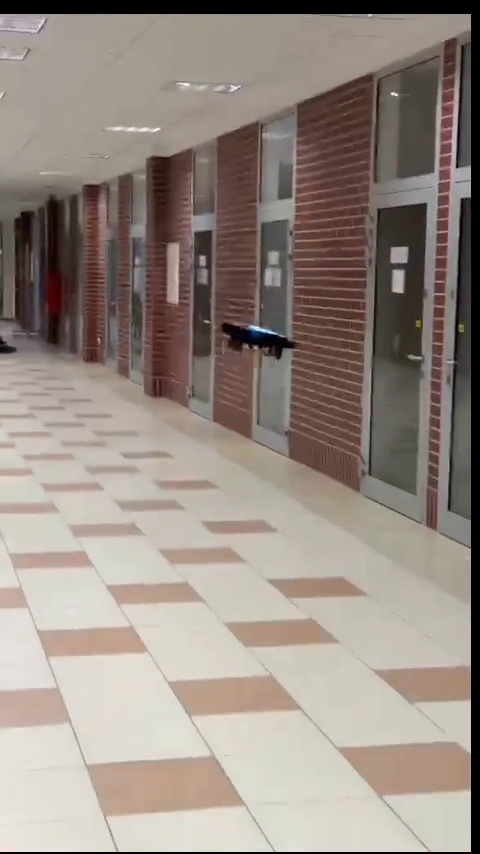drone: (219, 321, 297, 363)
